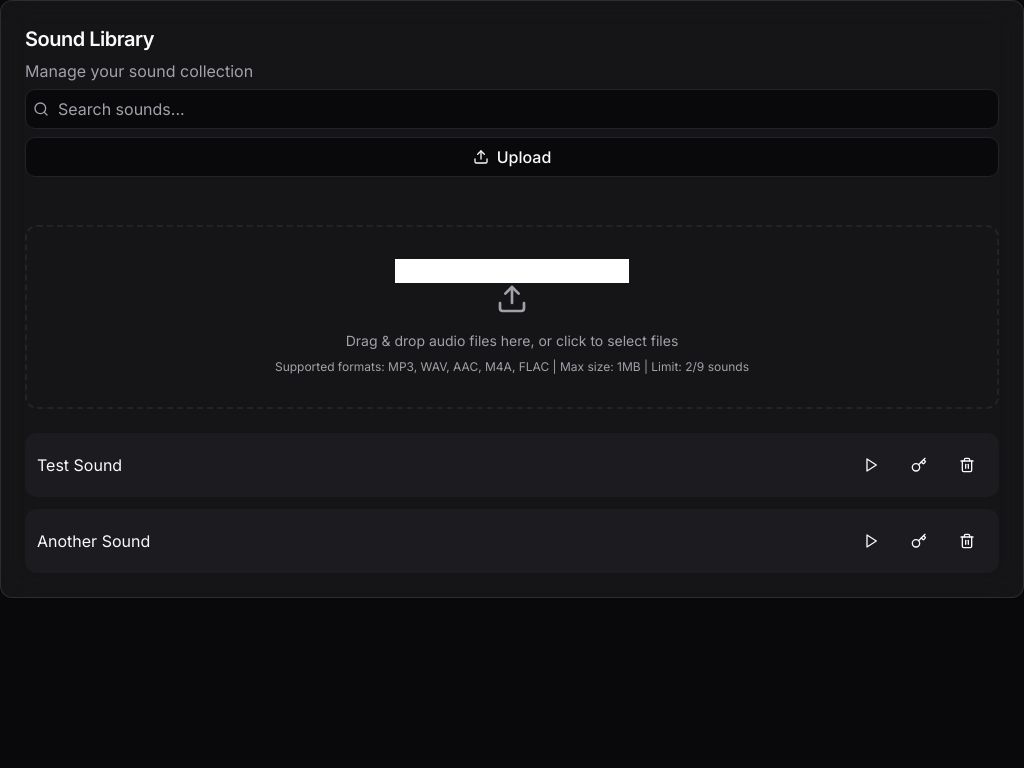
Test: SoundLibrary › should filter sounds based on search input
expect the text "Test Sound" is shown: met, box [37,455,122,475]
expect the text "Another Sound" is shown: met, box [37,531,150,551]
// Search for 'Test'
Type "Test" into the field with placeholder "Search sounds...". click: coordinates (512, 109)
box: [25,89,999,129]
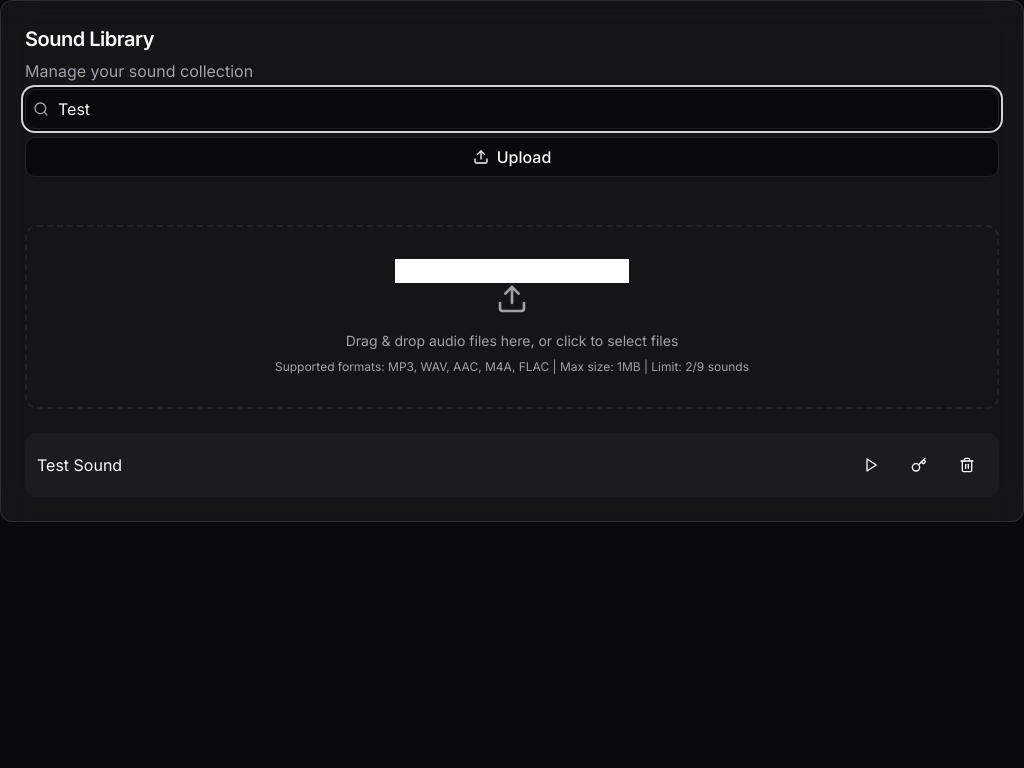
expect the text "Test Sound" is shown: met, box [37,455,122,475]
expect the text "Another Sound" is gone: met
